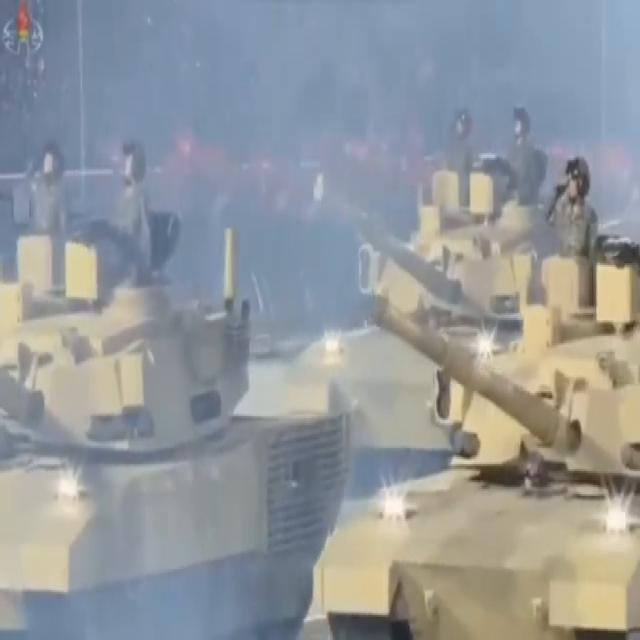north tank: (0, 201, 362, 634), (308, 259, 639, 640), (290, 130, 573, 474)
